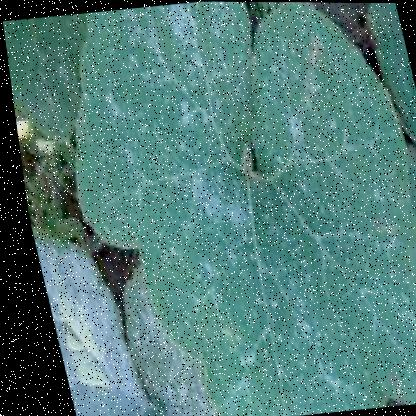PowderyMildew: (175, 192, 398, 415), (249, 44, 412, 337), (72, 10, 262, 249)
